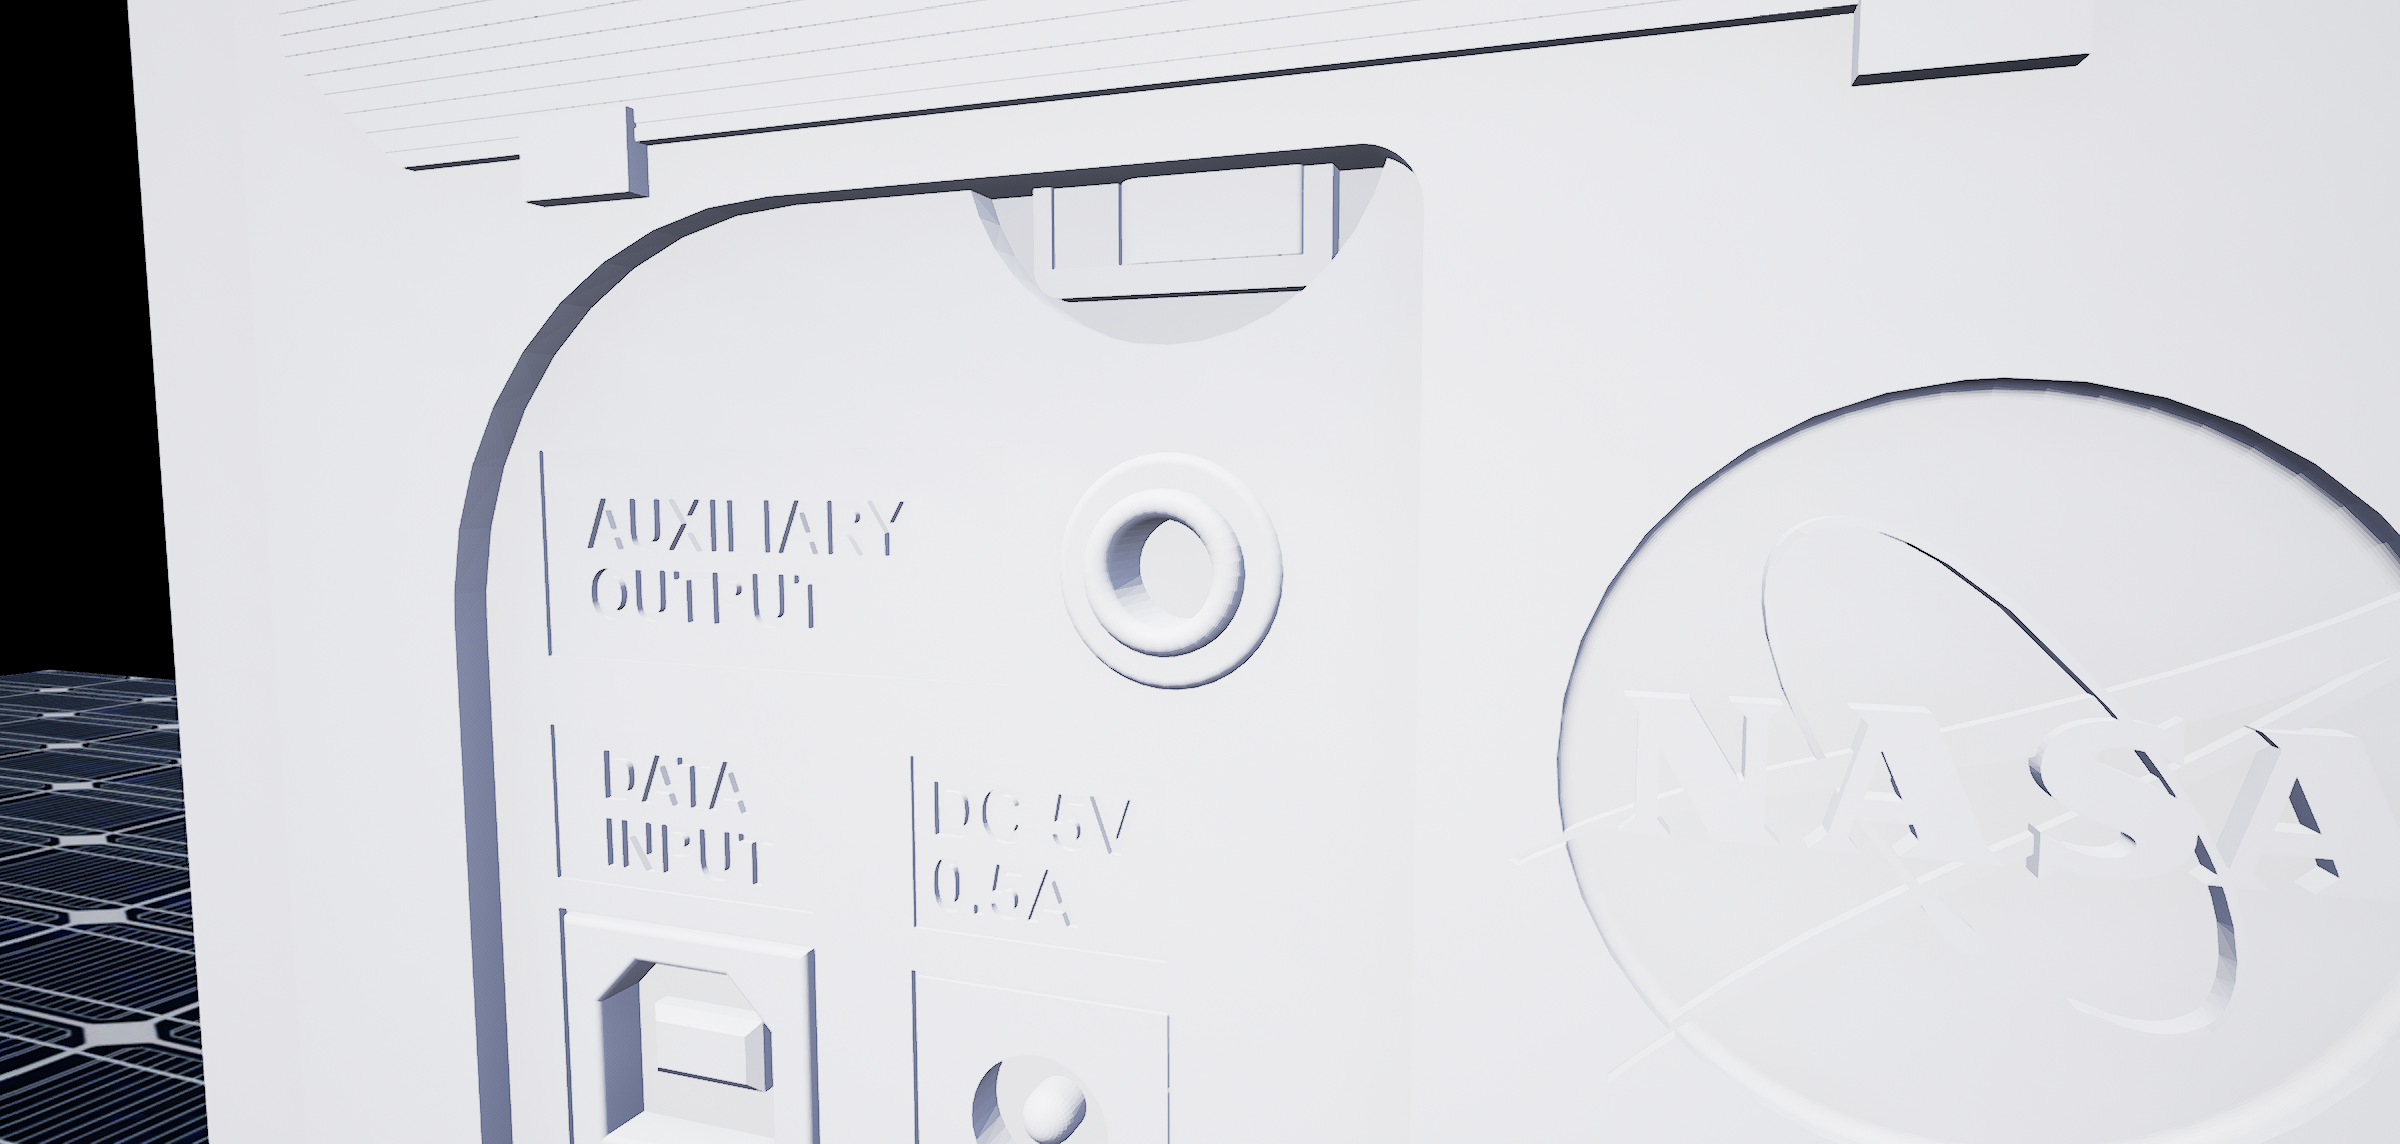aux: (1036, 444, 1296, 704)
dc: (952, 1046, 1113, 1144)
usb: (592, 946, 787, 1144)
